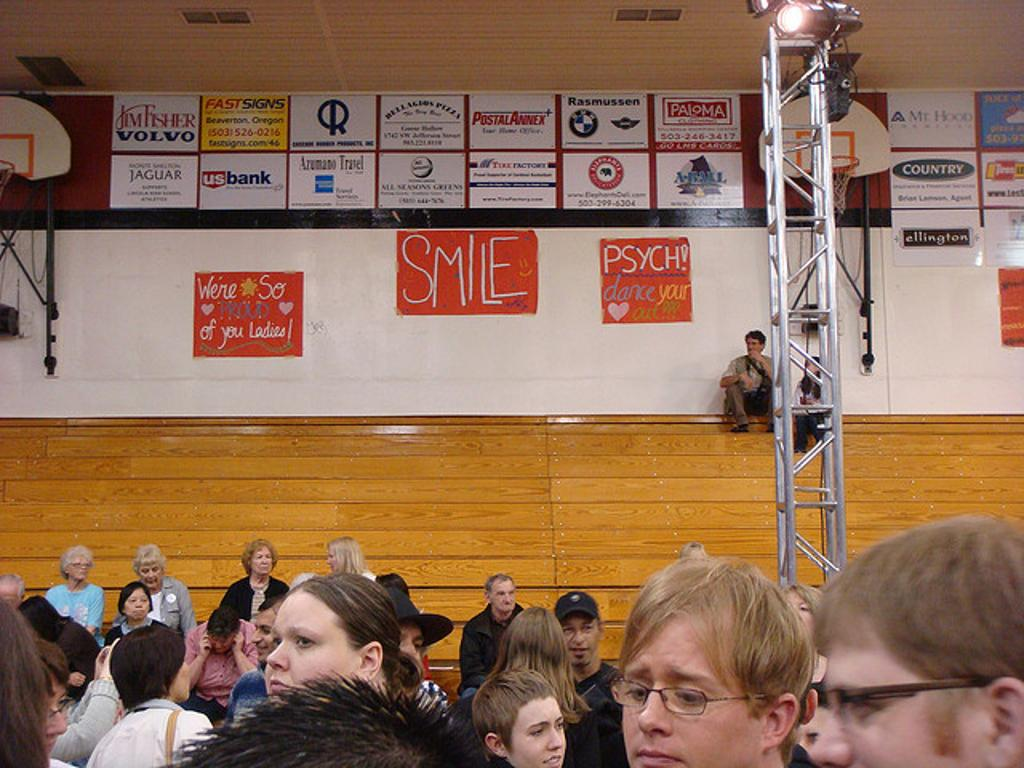face: (811, 617, 1024, 768), (623, 607, 760, 768), (267, 592, 358, 718), (21, 671, 69, 762), (509, 694, 568, 768), (379, 621, 425, 688), (558, 612, 597, 664), (251, 610, 286, 663), (781, 592, 817, 641), (326, 545, 352, 576), (125, 587, 150, 619), (491, 581, 515, 611), (208, 629, 235, 654), (1, 585, 18, 619), (139, 563, 161, 588), (252, 547, 272, 574), (69, 556, 89, 580), (748, 338, 761, 355), (807, 361, 819, 375)
